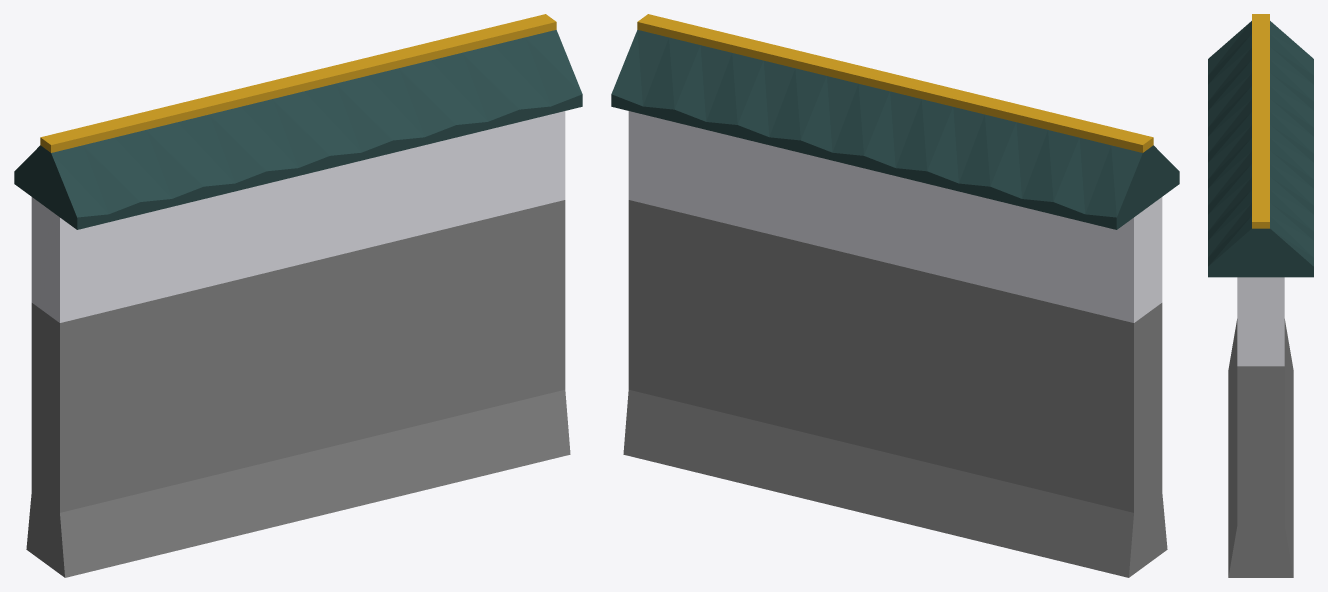
The model's file is Asian_Prop_Building_Fence_Wall_High_04.FBX.
3 renders of one model, left to right at view 1: azimuth 30°, elevation 25°; view 2: azimuth 150°, elevation 25°; view 3: azimuth 270°, elevation 25°, orthographic. The views are drawn at different scales.
Parts seen in each view (by area): view 1: Asian_Prop_Building_Fence_Wall_High_04; view 2: Asian_Prop_Building_Fence_Wall_High_04; view 3: Asian_Prop_Building_Fence_Wall_High_04.
Boxes of the visible parts, left/top/right/bottom form: Asian_Prop_Building_Fence_Wall_High_04: left=14, top=14, right=582, bottom=577; Asian_Prop_Building_Fence_Wall_High_04: left=611, top=14, right=1179, bottom=577; Asian_Prop_Building_Fence_Wall_High_04: left=1208, top=14, right=1313, bottom=577.
Bounding box in the file's own units: 5167 × 4128 × 1112.
